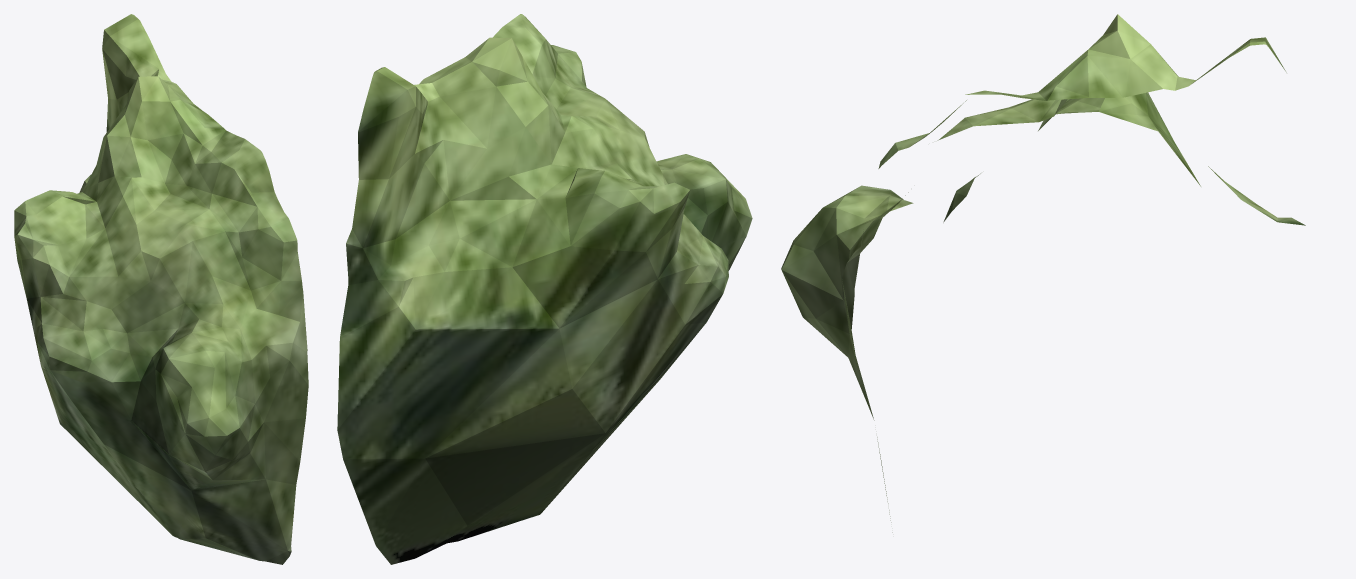
The picture shows the model from 3 angles, left to right: view 1: azimuth 30°, elevation 25°; view 2: azimuth 150°, elevation 25°; view 3: azimuth 270°, elevation 25°; orthographic projection. The views are drawn at different scales.
Bounding box in the file's own units: 1.54 × 3.33 × 3.24.
1 material, 1 textured.
